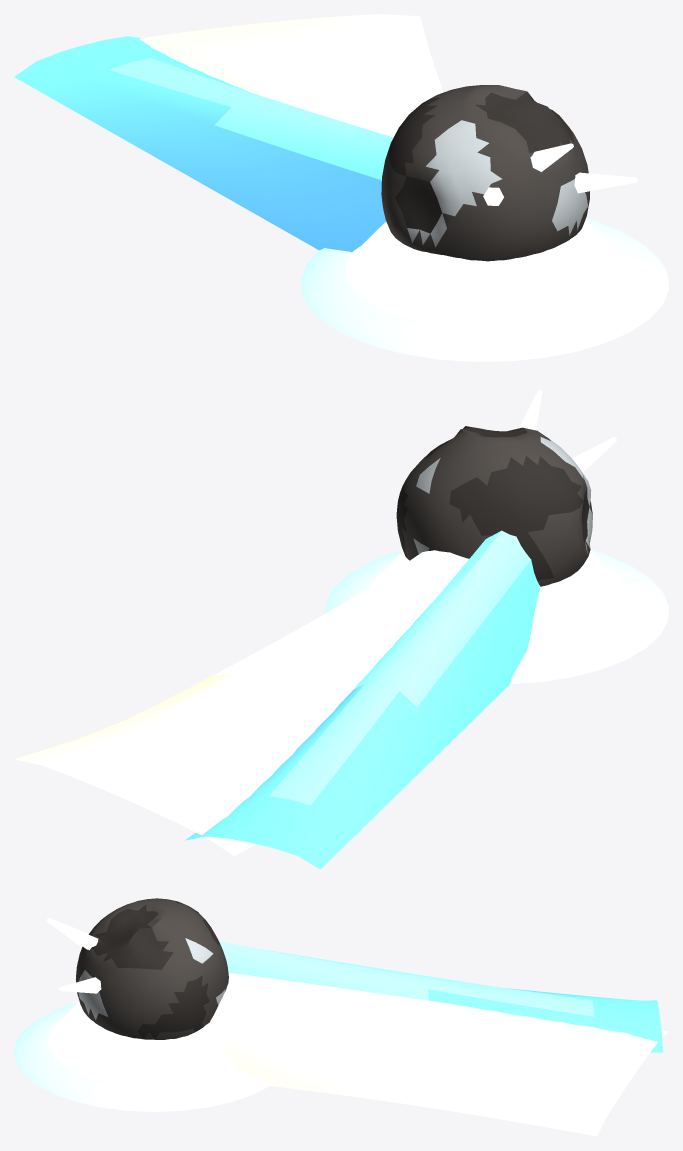
Rendered from comet.glb.
3 renders of one model, top to bottom at view 1: azimuth 30°, elevation 25°; view 2: azimuth 150°, elevation 25°; view 3: azimuth 270°, elevation 25°, orthographic. The views are drawn at different scales.
Parts seen in each view (by area): view 1: body, tail; view 2: tail, body; view 3: tail, body.
Part boxes in pixels (bbox=[...]): body: bbox=[301, 85, 668, 361]; tail: bbox=[14, 14, 443, 252]; tail: bbox=[14, 530, 540, 869]; body: bbox=[325, 390, 668, 684]; tail: bbox=[210, 941, 668, 1136]; body: bbox=[14, 898, 269, 1111].
Bounding box in the file's own units: 251 × 120 × 486.
